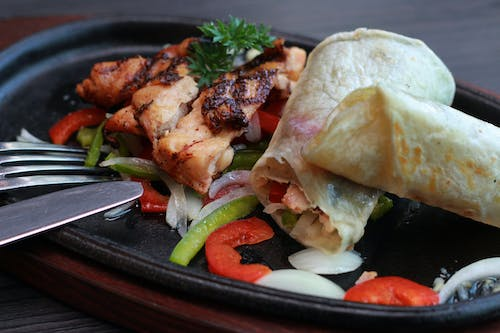knife: (0, 179, 145, 251)
